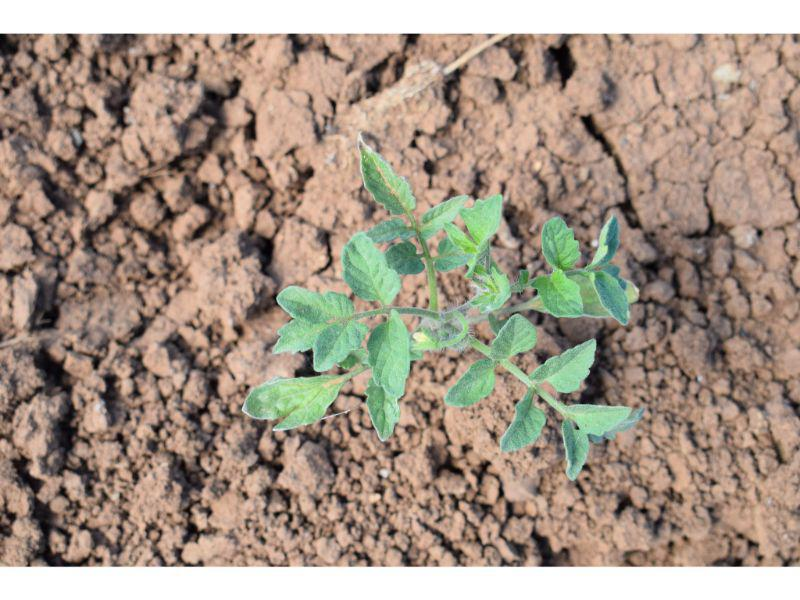tomato: (244, 138, 642, 479)
